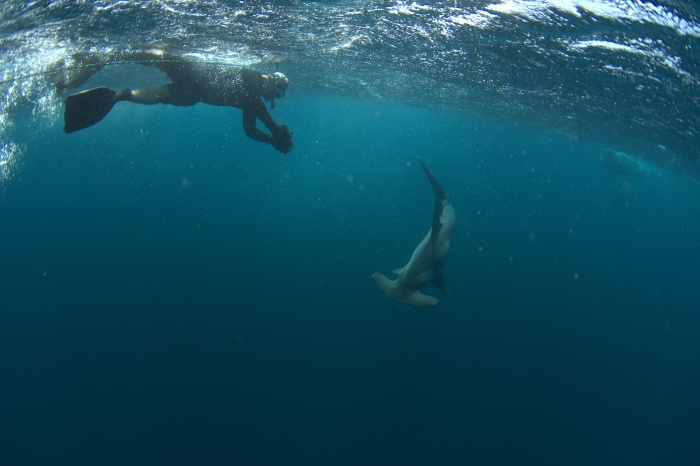Hammer: (346, 164, 506, 344)
